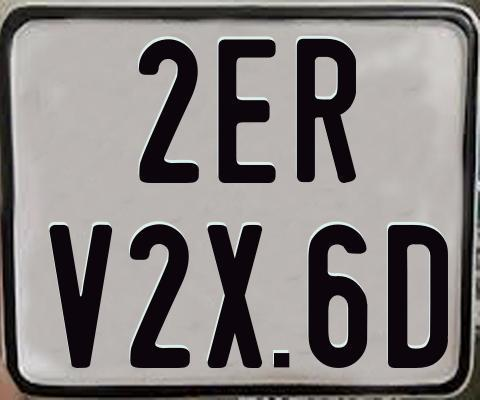2: (130, 221, 196, 369), (138, 38, 202, 186)
6: (308, 223, 373, 371)
D: (385, 225, 450, 374)
E: (218, 39, 282, 186)
R: (295, 38, 357, 186)
V: (47, 225, 112, 374)
X: (205, 225, 264, 374)
